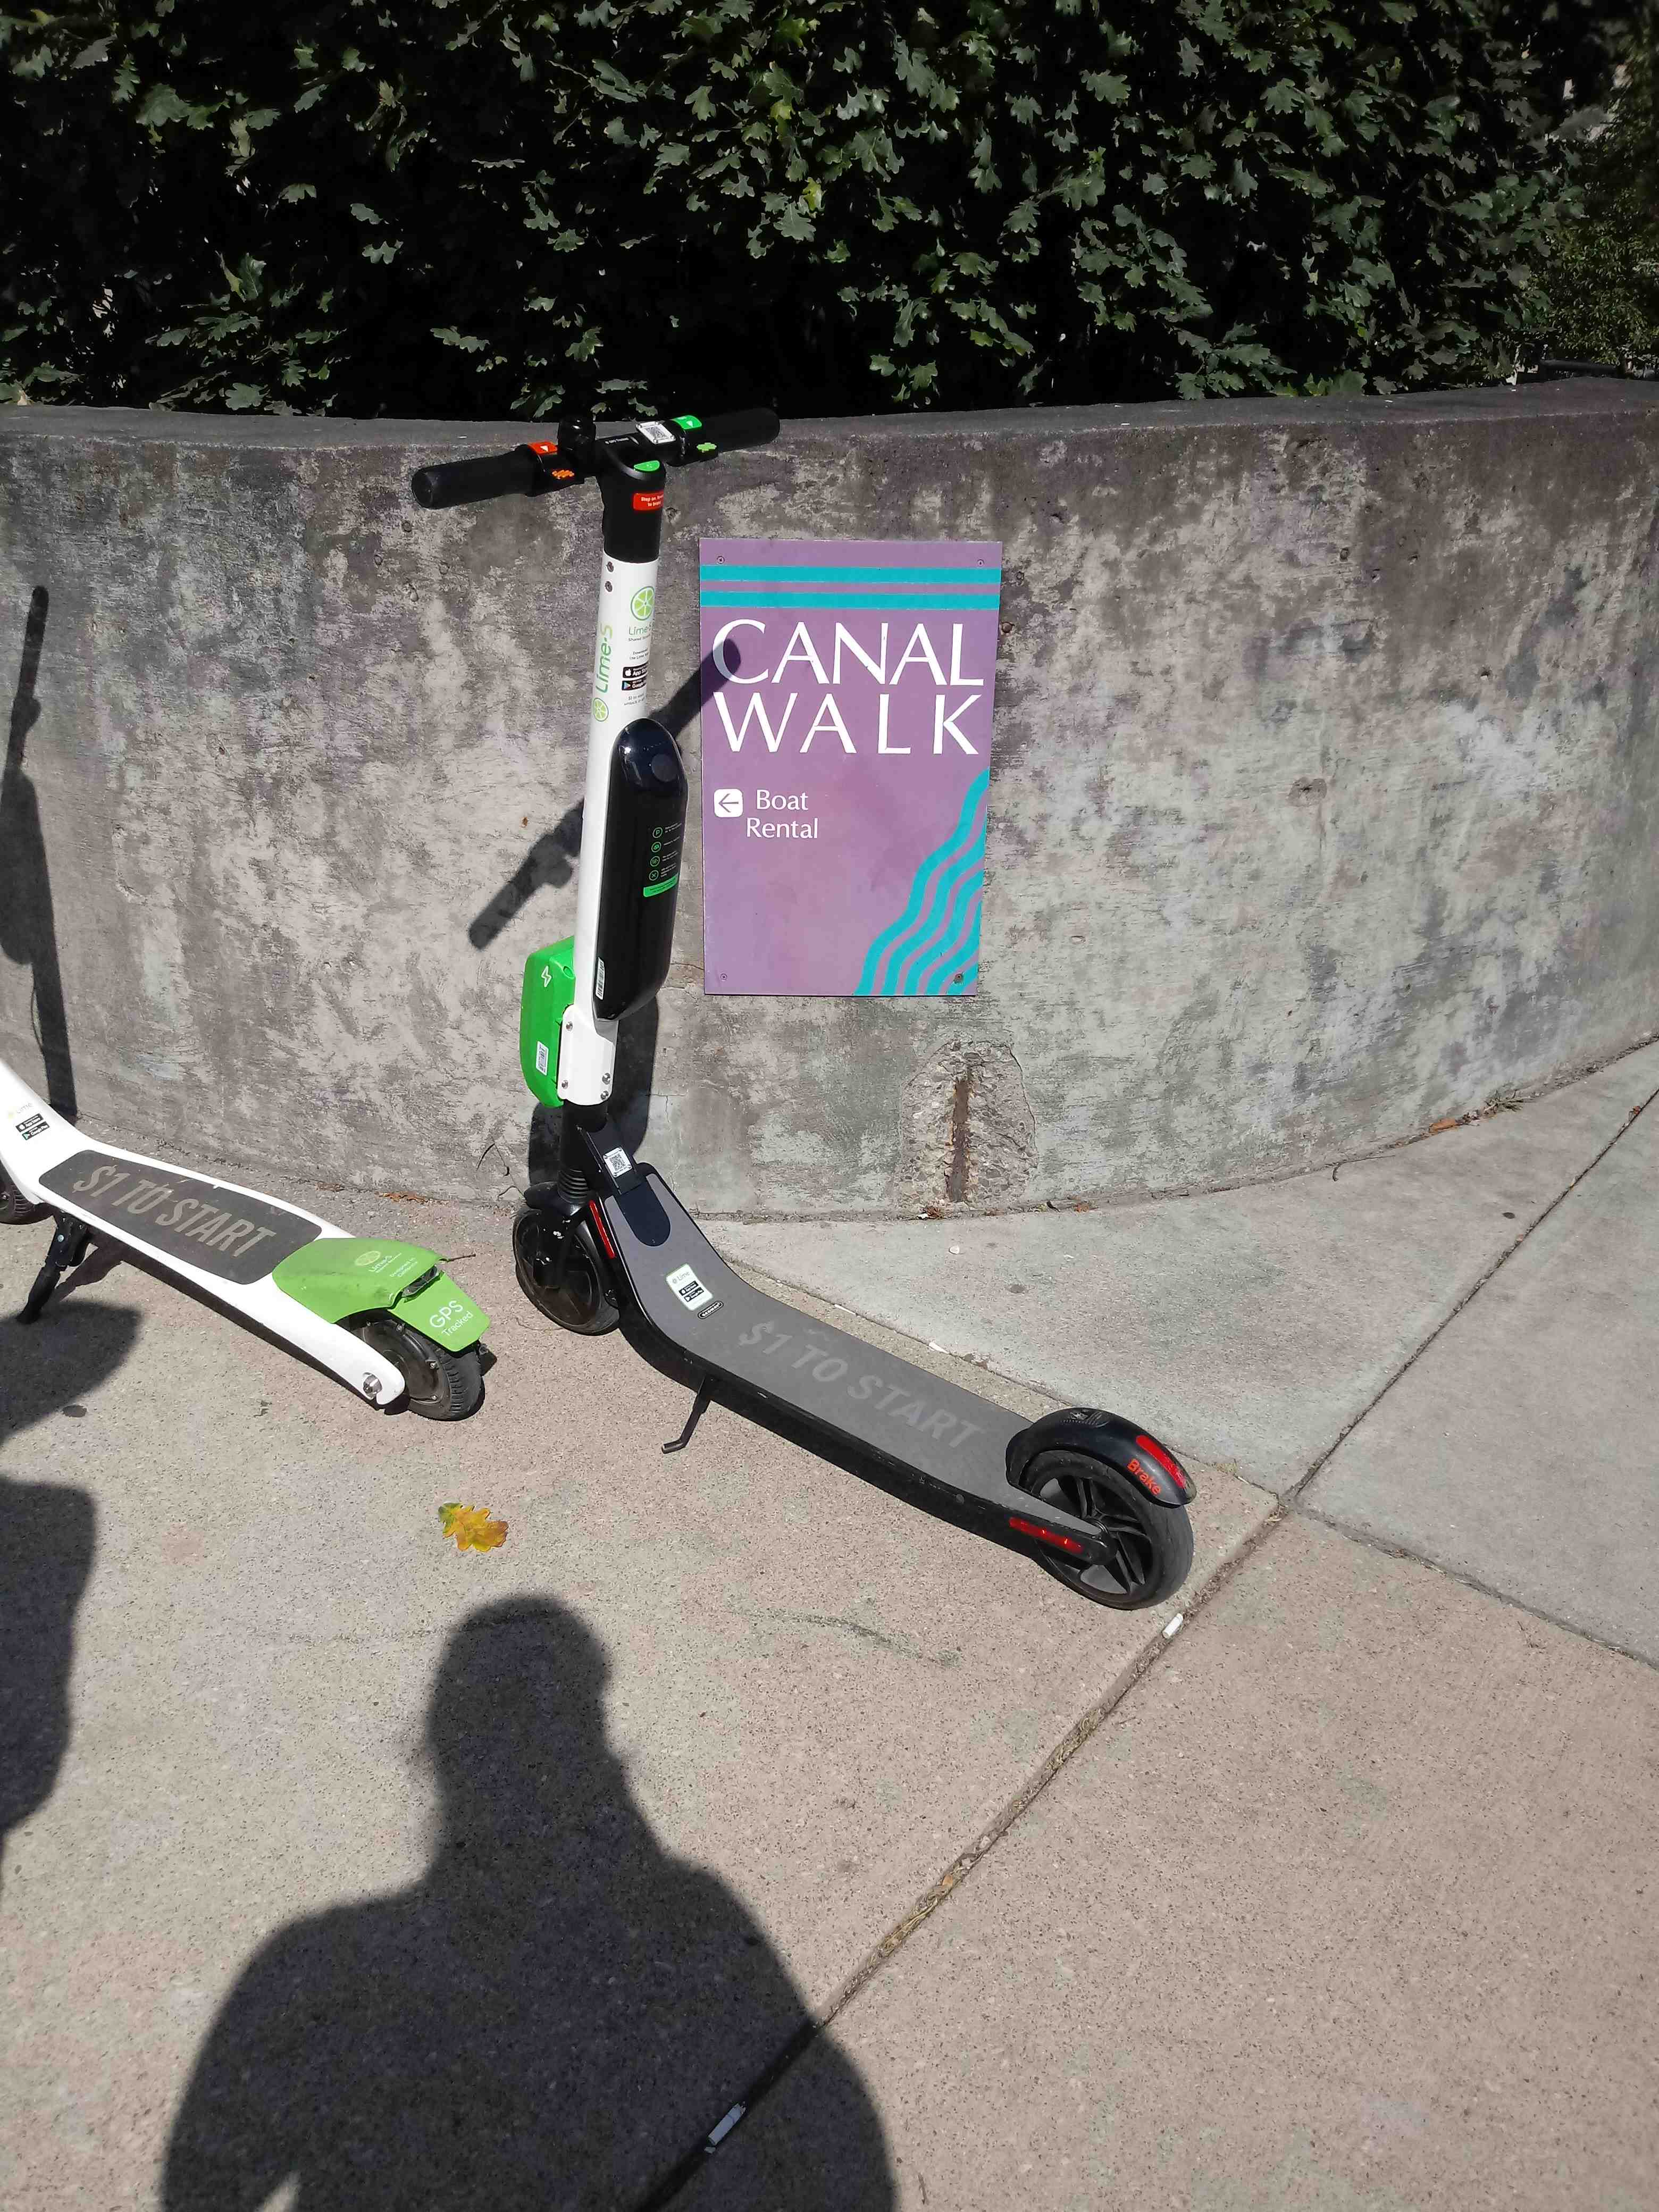scooter: (403, 315, 1232, 1618)
